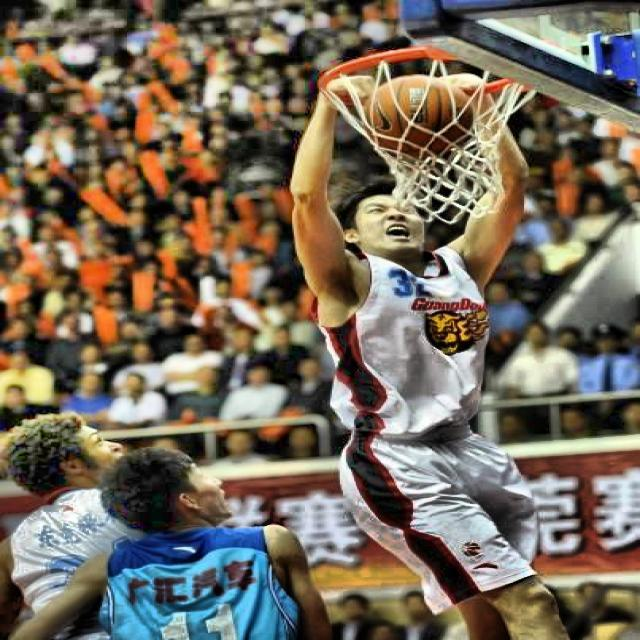board: (360, 76, 474, 156)
rim: (318, 47, 534, 218)
